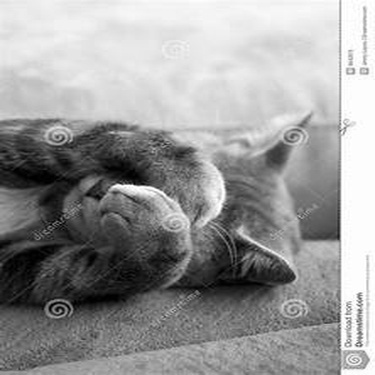cat: (9, 102, 318, 309)
